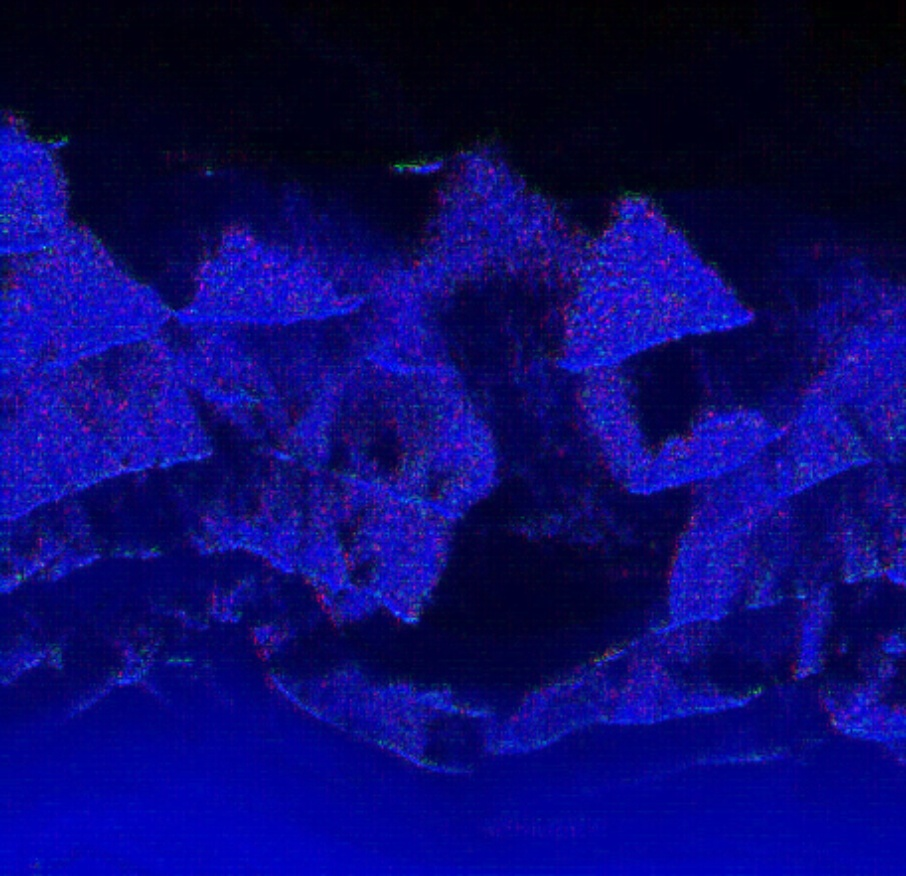rip_current: (342, 123, 677, 675)
